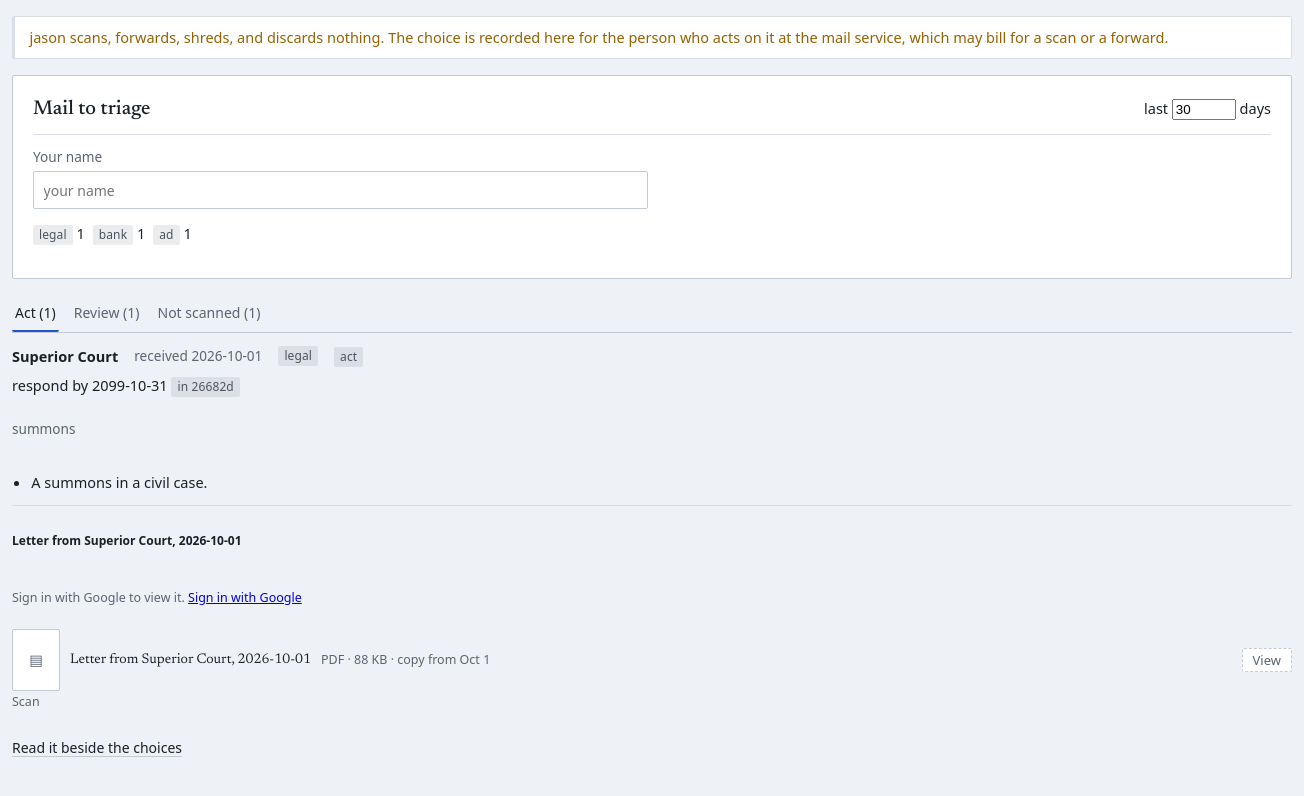
MailTriageView › records a choice through a confirm, posting to the mail id
Check: the text "Superior Court" is shown, box [12, 346, 118, 367]
Type "Treasurer" into the field with placeholder "Your name" at (340,190), box [33, 171, 648, 209]
(page scrolled)
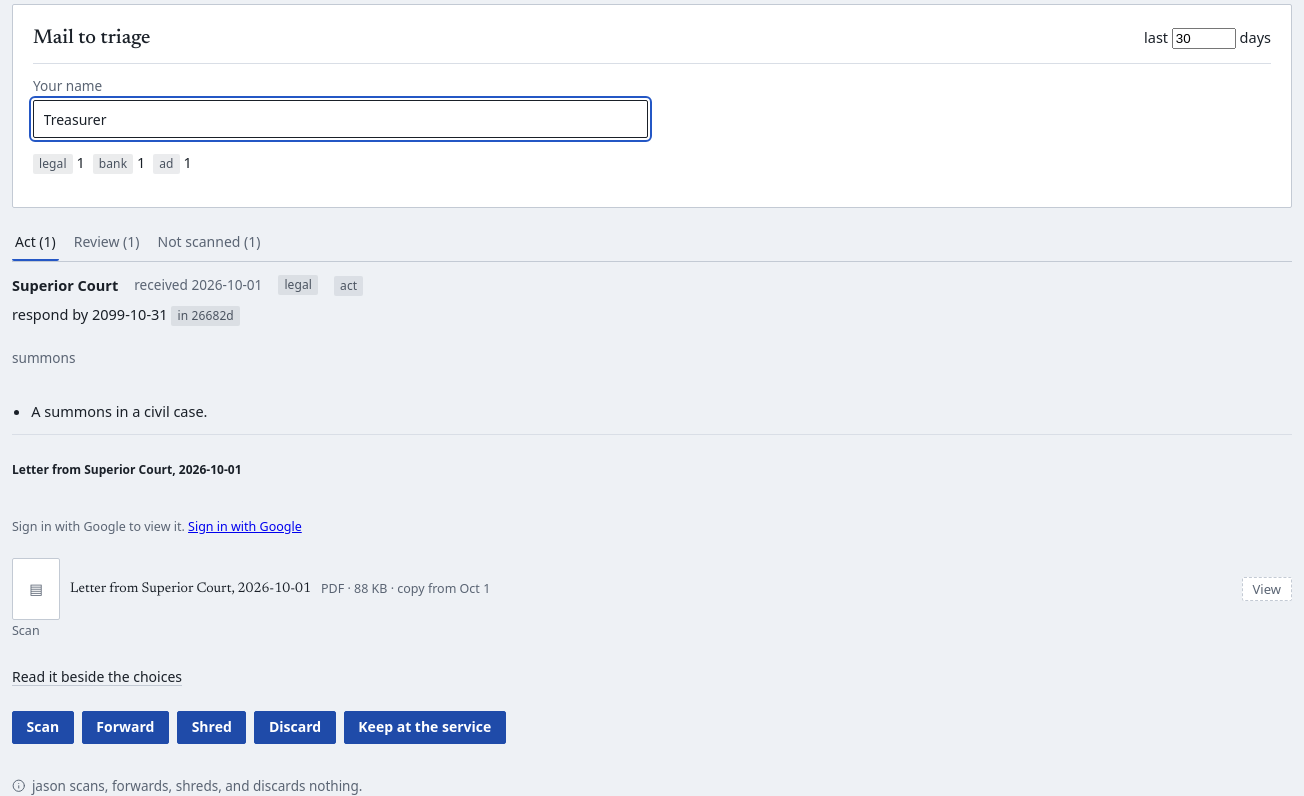
Click the button "Forward" at (125,727), box [82, 711, 169, 744]
(page scrolled)
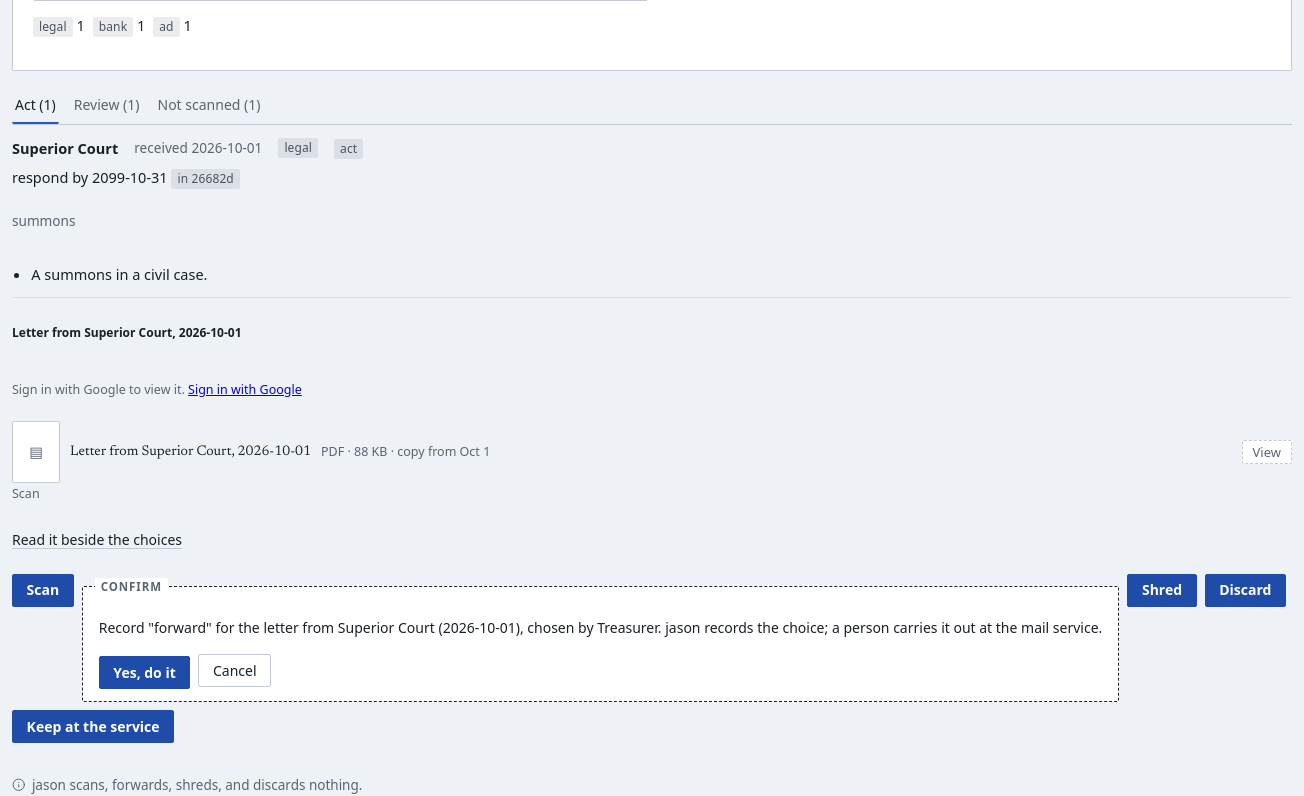
Check: the element "Confirm" shows "Record \"forward\" for the letter from Superior Court", box [82, 586, 1119, 702]
Click the button "Yes, do it" at (145,673), box [99, 656, 190, 689]
(page scrolled)
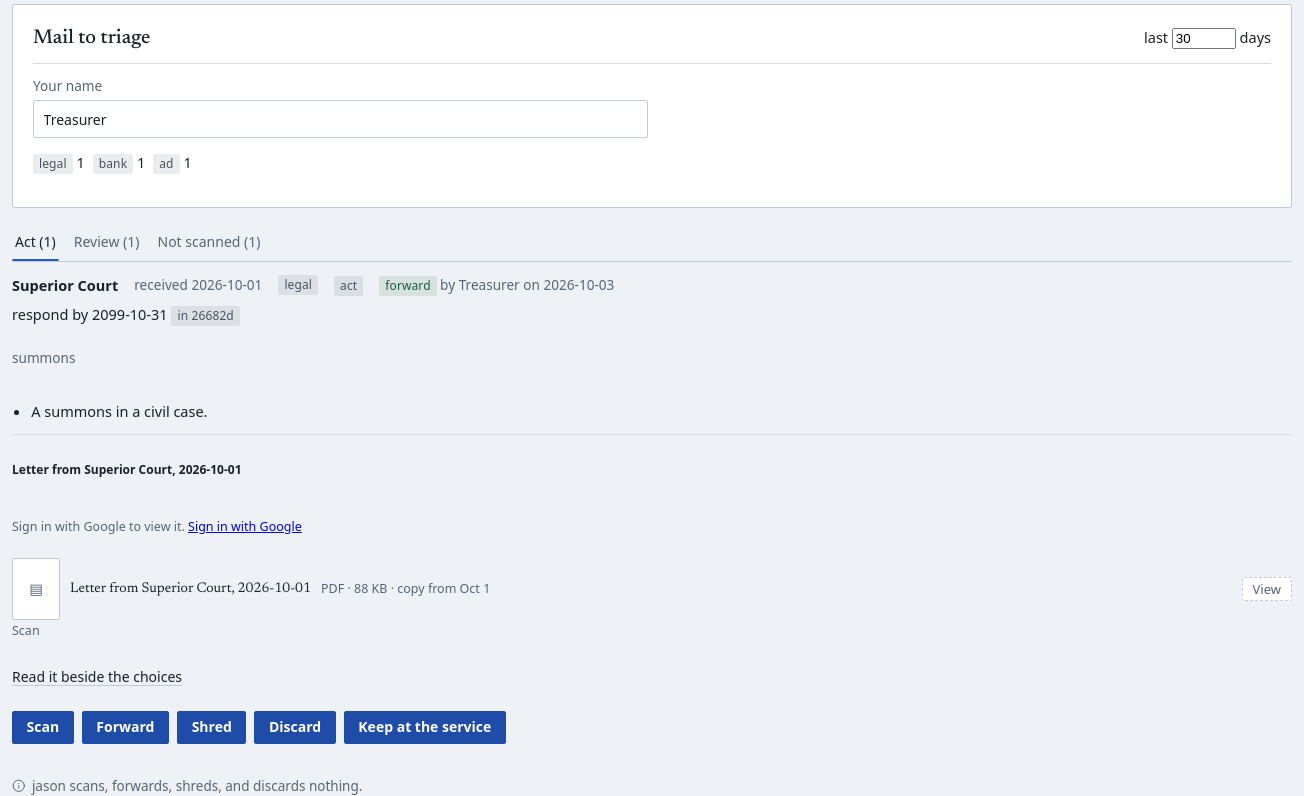
Check: the text "forward" is shown, box [379, 276, 437, 296]
Check: the text "by Treasurer on 2026-10-03" is shown, box [440, 275, 614, 294]
